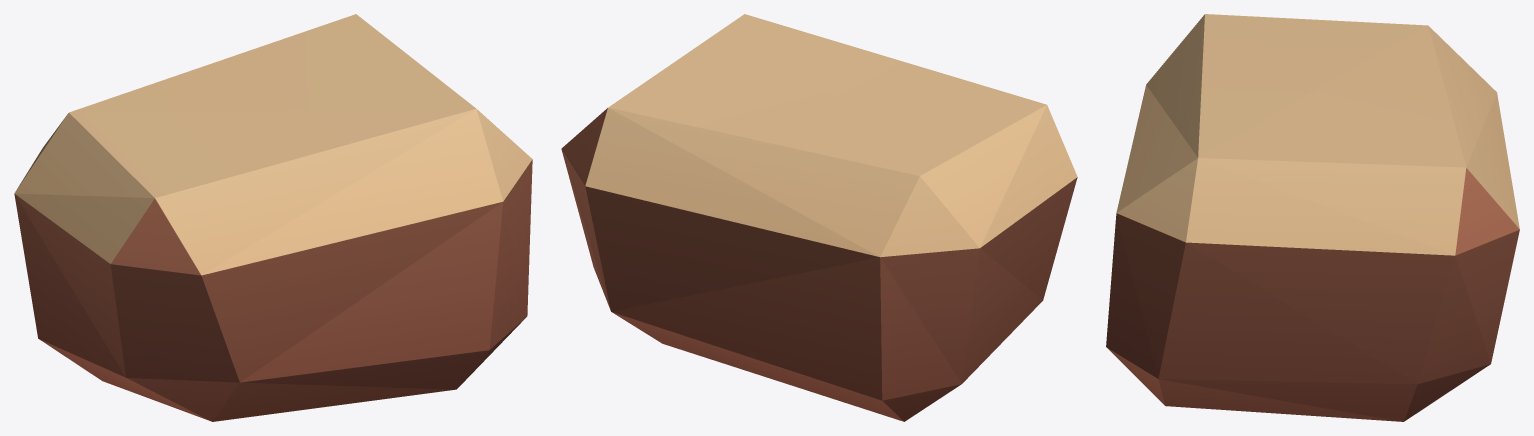
The model's file is debris_wood_b.glb.
3 views of the same model, side by side, from view 1: azimuth 30°, elevation 25°; view 2: azimuth 150°, elevation 25°; view 3: azimuth 270°, elevation 25° (orthographic). The views are drawn at different scales.
Parts seen in each view (by area): view 1: debris_wood_b; view 2: debris_wood_b; view 3: debris_wood_b.
Boxes of the visible parts, left/top/right/bottom form: debris_wood_b: left=14, top=14, right=532, bottom=421; debris_wood_b: left=561, top=14, right=1077, bottom=421; debris_wood_b: left=1106, top=14, right=1519, bottom=421.
Size of the model in its own units: 0.2483 by 0.1592 by 0.2069.
1 material, 1 textured.
